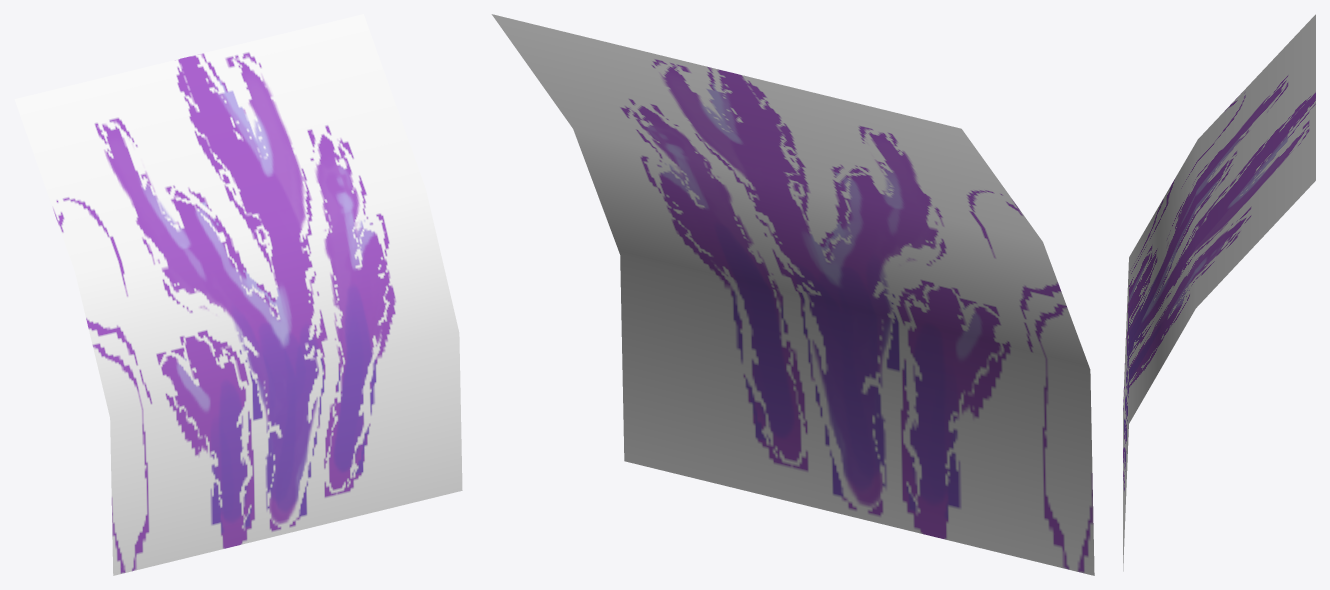
The model's file is purple plant 5.fbx.
3 renders of one model, left to right at view 1: azimuth 30°, elevation 25°; view 2: azimuth 150°, elevation 25°; view 3: azimuth 270°, elevation 25°, orthographic. The views are drawn at different scales.
Visible parts, largest first — view 1: pPlane6; view 2: pPlane6; view 3: pPlane6.
Boxes of the visible parts, x1,y1,x2,y2 form: pPlane6: (14,14,462,575); pPlane6: (491,14,1094,575); pPlane6: (1123,14,1315,571).
Bounding box in the file's own units: 7.56 × 8.35 × 3.69.
